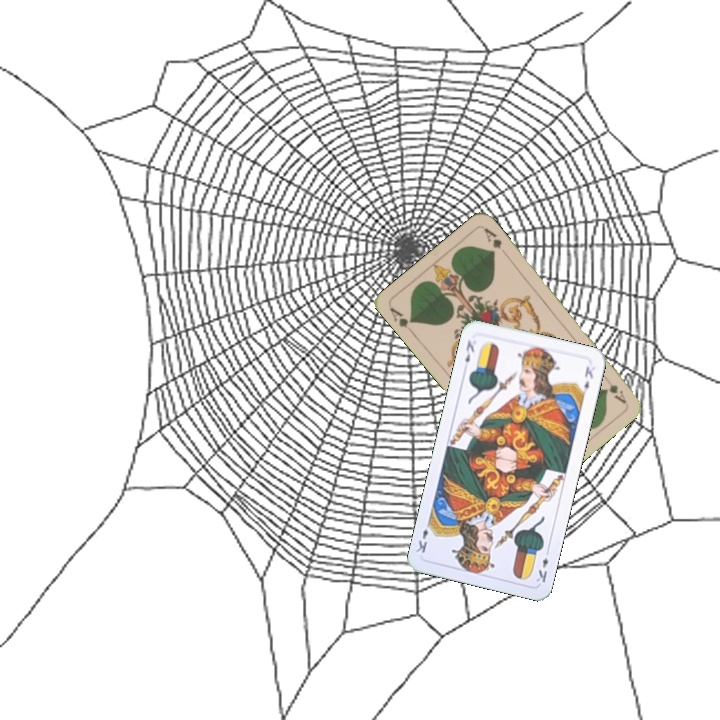EK: (532, 545, 552, 585), (461, 336, 477, 365)
GA: (386, 303, 417, 337), (599, 371, 629, 406)
